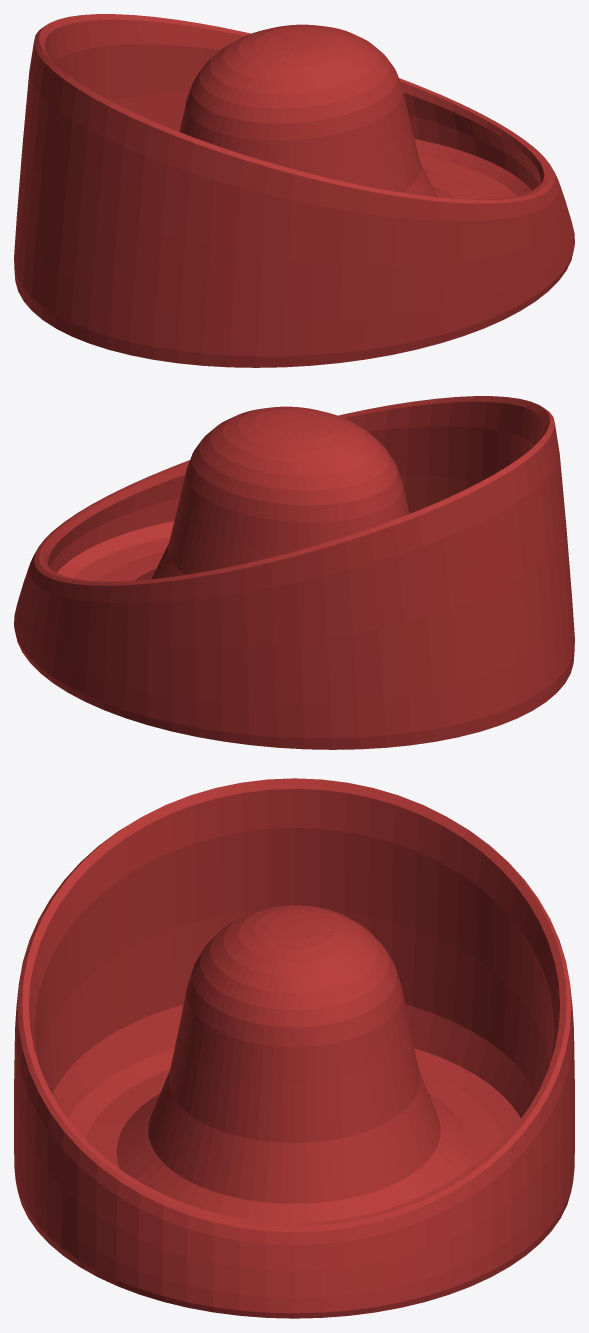
The model's file is paddle.fbx.
3 views of the same model, one above another, from view 1: azimuth 30°, elevation 25°; view 2: azimuth 150°, elevation 25°; view 3: azimuth 270°, elevation 25° (orthographic). The views are drawn at different scales.
Parts seen in each view (by area): view 1: paddle; view 2: paddle; view 3: paddle.
Boxes of the visible parts, x1,y1,x2,y2 form: paddle: (14,14,574,367); paddle: (14,396,574,749); paddle: (14,778,574,1318).
Bounding box in the file's own units: 21.25 × 9.79 × 17.97.
